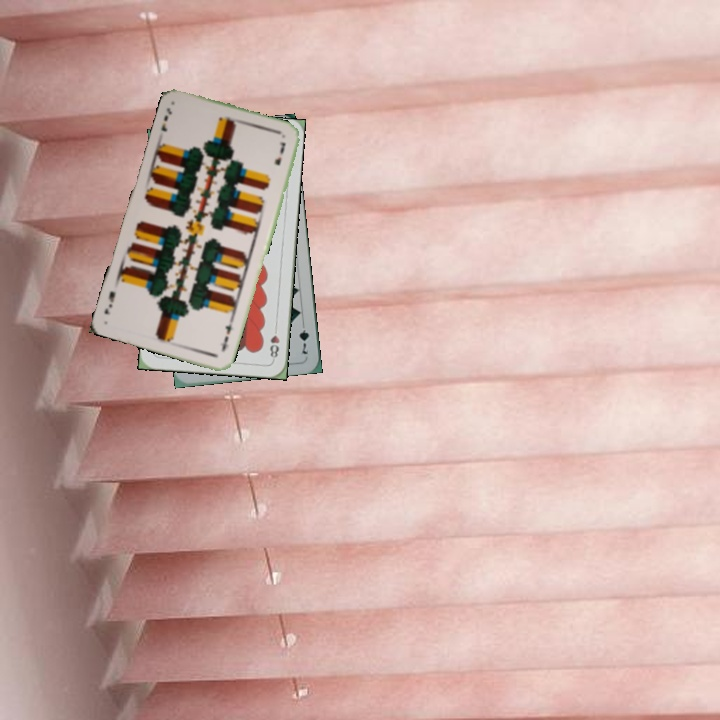E7: (216, 316, 235, 355), (157, 104, 175, 134)
G7: (295, 317, 312, 357)
H8: (266, 322, 282, 362)
